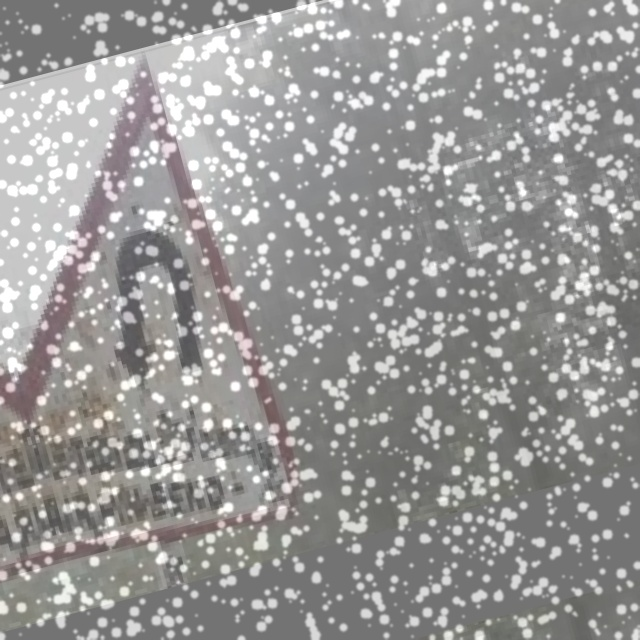Left_Hair_Pin_Bend: (55, 181, 237, 405)
